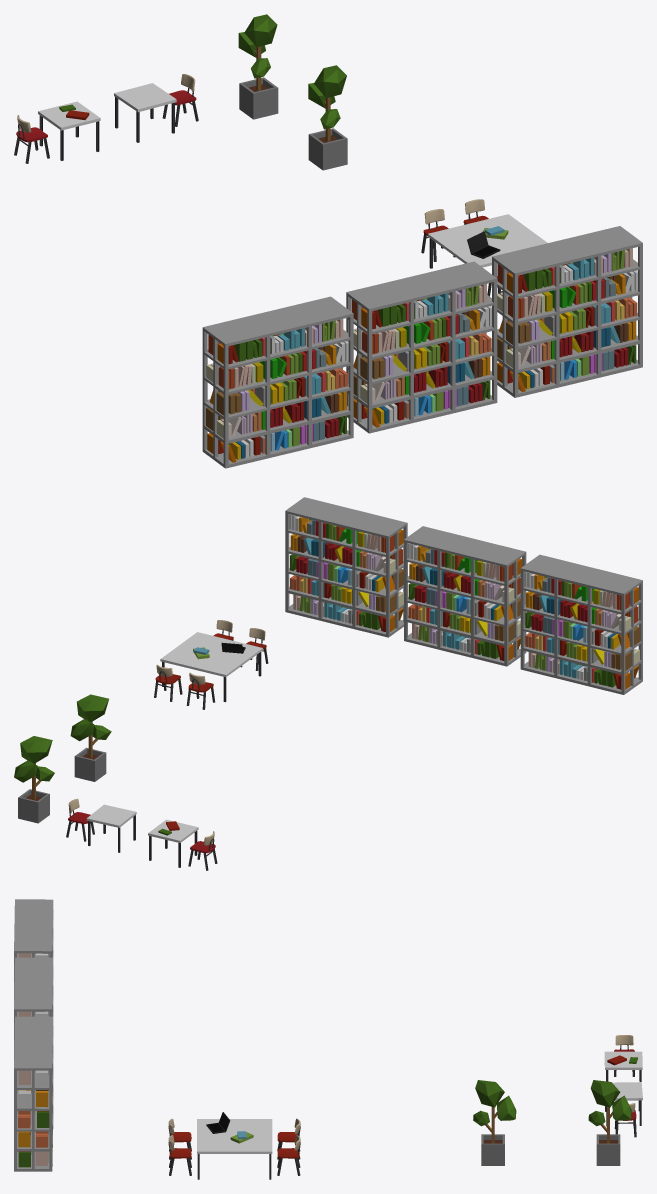
3 renders of one model, top to bottom at view 1: azimuth 30°, elevation 25°; view 2: azimuth 150°, elevation 25°; view 3: azimuth 270°, elevation 25°, orthographic. The views are drawn at different scales.
Visible parts, largest first — view 1: 1er Tisch B.002; view 2: 1er Tisch B.002; view 3: 1er Tisch B.002.
Boxes of the visible parts, bbox=[...] form: 1er Tisch B.002: bbox=[14, 14, 642, 468]; 1er Tisch B.002: bbox=[14, 497, 642, 870]; 1er Tisch B.002: bbox=[14, 899, 642, 1179].
Bounding box in the file's own units: 12.14 × 3.3 × 18.19.
3 materials, 3 textured.
